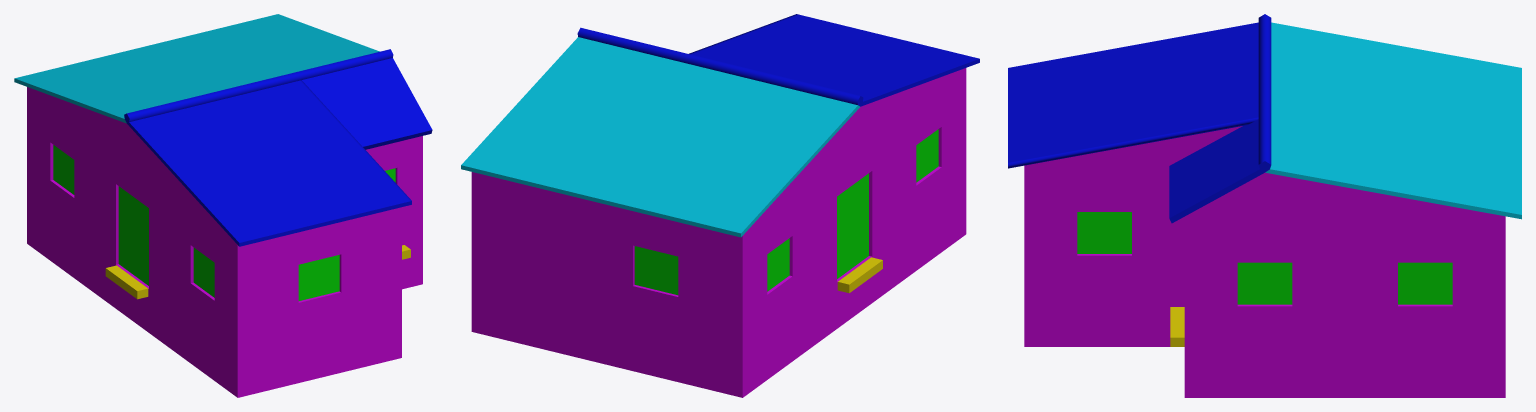
The model's file is old_build03_02.FBX.
3 renders of one model, left to right at view 1: azimuth 30°, elevation 25°; view 2: azimuth 150°, elevation 25°; view 3: azimuth 270°, elevation 25°, orthographic. The views are drawn at different scales.
Visible parts, largest first — view 1: Box001; view 2: Box001; view 3: Box001.
Boxes of the visible parts, left/top/right/bottom form: Box001: left=14, top=14, right=432, bottom=397; Box001: left=461, top=14, right=979, bottom=397; Box001: left=1008, top=14, right=1521, bottom=397.
Size of the model in its own units: 7.38 by 10.68 by 5.47.
